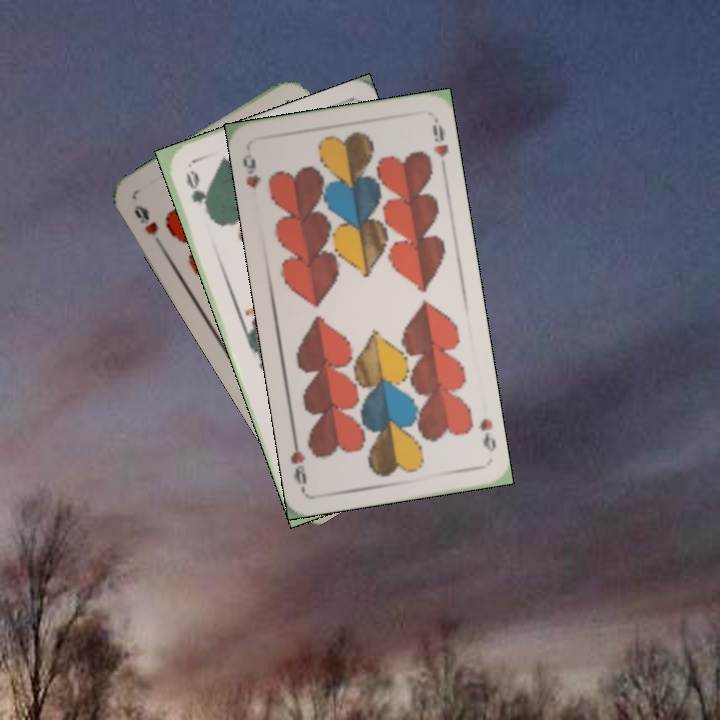GO: (181, 166, 214, 221)
H9: (129, 200, 167, 252), (238, 149, 264, 192), (475, 414, 499, 454)
